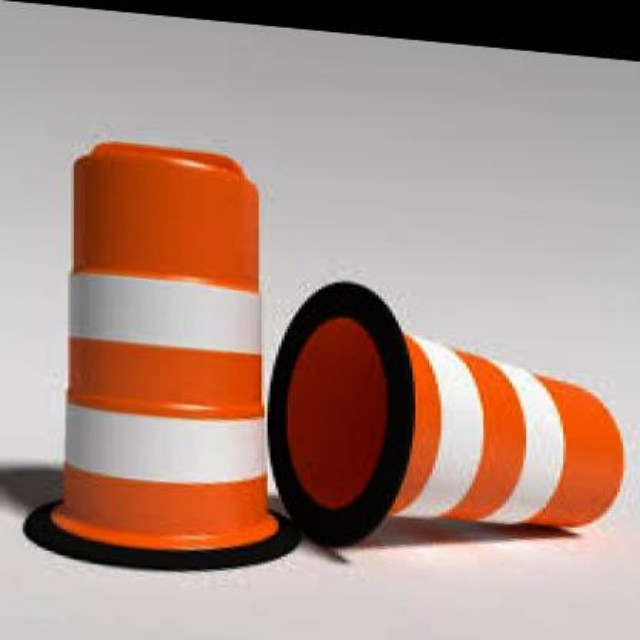obstacle: (284, 258, 628, 554), (51, 115, 262, 549)
